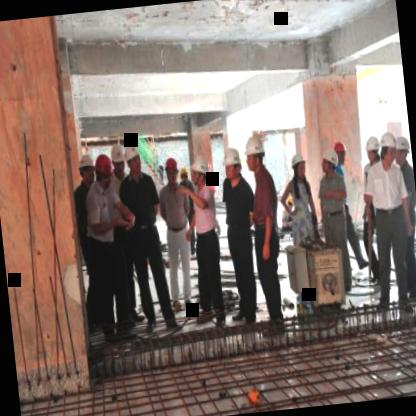helmet: (242, 129, 270, 179), (222, 144, 244, 185), (186, 151, 212, 184), (74, 150, 96, 188), (378, 128, 398, 168), (92, 152, 115, 186), (122, 140, 142, 177), (318, 146, 340, 178), (395, 130, 413, 168), (161, 154, 182, 186), (289, 150, 310, 180), (109, 139, 126, 176), (362, 134, 382, 164), (334, 138, 348, 166)
